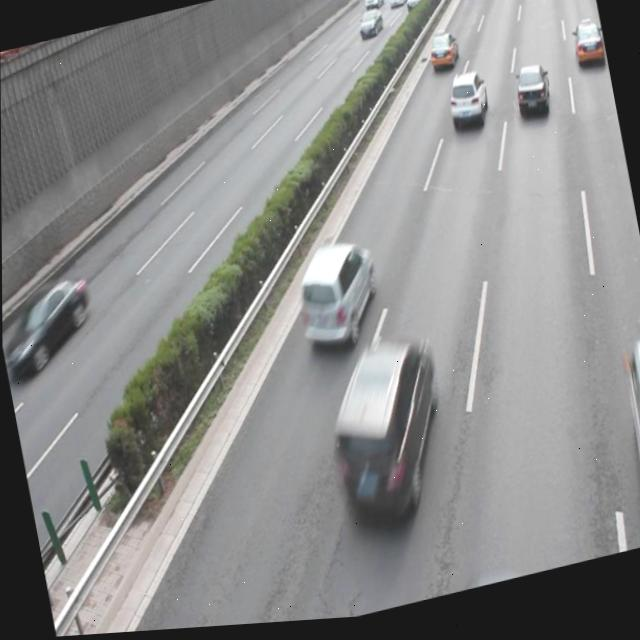car: (314, 331, 454, 530), (288, 240, 384, 351), (2, 271, 97, 375), (443, 74, 490, 138), (509, 67, 552, 127), (569, 26, 607, 78), (423, 34, 460, 79)
truck: (613, 346, 640, 540)
